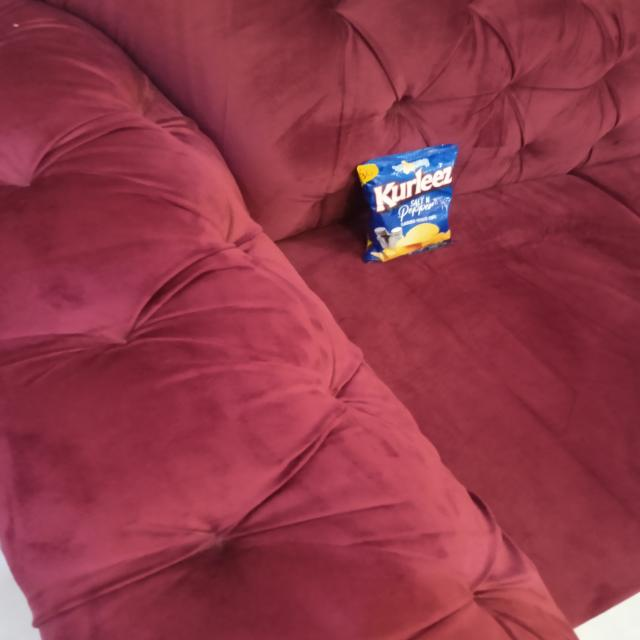Plastic: (351, 136, 470, 272)
